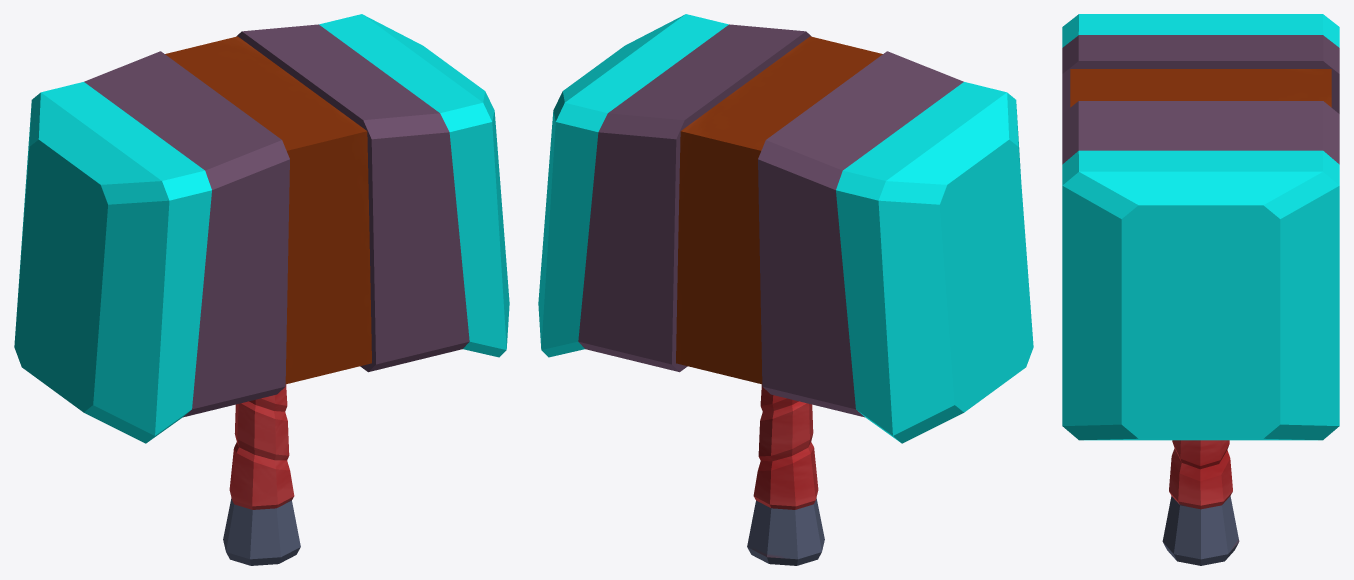
The model's file is MarteloPequeno.fbx.
3 views of the same model, side by side, from view 1: azimuth 30°, elevation 25°; view 2: azimuth 150°, elevation 25°; view 3: azimuth 270°, elevation 25° (orthographic).
Visible parts, largest first — view 1: Martelo; view 2: Martelo; view 3: Martelo.
Boxes of the visible parts, x1,y1,x2,y2 form: Martelo: (14,14,509,565); Martelo: (538,14,1033,565); Martelo: (1062,14,1339,565).
Size of the model in its own units: 64.43 by 68.57 by 36.72.
